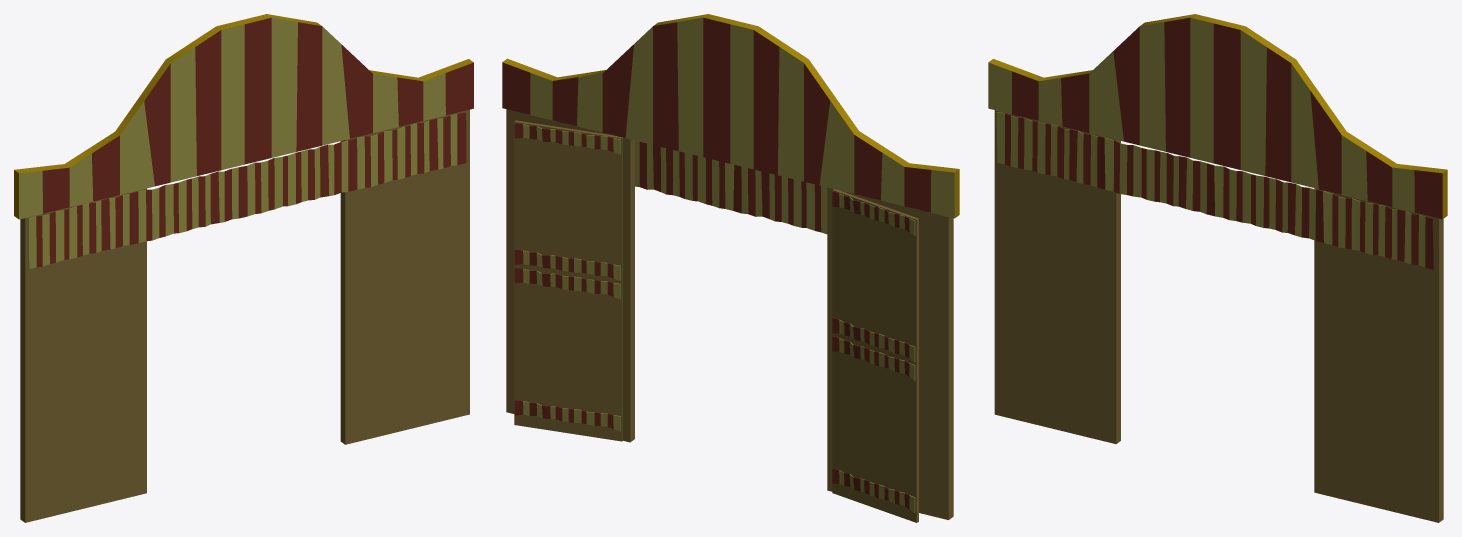
The model's file is EntranceGate_Proxy.fbx.
The picture shows the model from 3 angles, left to right: view 1: azimuth 30°, elevation 25°; view 2: azimuth 150°, elevation 25°; view 3: azimuth 330°, elevation 25°; orthographic projection.
Visible parts, largest first — view 1: Top, Wall_Left, Wall_Right, BannerWall_Right4; view 2: Top, Door_Left, Door_Right, Wall_Right, BannerWall_Right4, Wall_Left, Banner_Left2, Banner_Left3, Banner_Left4, Banner_Left1, Banner_Right2, Banner_Right4 (+2 smaller); view 3: Top, Wall_Left, Wall_Right, BannerWall_Right4.
Part boxes in pixels (box(x1,y1,x2,y2)): Top: box(14, 14, 473, 219); Wall_Left: box(340, 109, 469, 444); Wall_Right: box(20, 188, 146, 522); BannerWall_Right4: box(28, 112, 466, 268); Top: box(502, 14, 959, 218); Door_Left: box(514, 120, 622, 441); Door_Right: box(832, 189, 918, 522); Wall_Right: box(827, 187, 953, 519); BannerWall_Right4: box(635, 140, 827, 234); Wall_Left: box(506, 109, 634, 442); Banner_Left2: box(514, 249, 620, 281); Banner_Left3: box(514, 267, 620, 299); Banner_Left4: box(514, 400, 620, 431); Banner_Left1: box(514, 123, 620, 154); Banner_Right2: box(832, 317, 915, 362); Banner_Right4: box(832, 468, 915, 512); Top: box(988, 14, 1447, 219); Wall_Left: box(1314, 188, 1443, 522); Wall_Right: box(994, 110, 1120, 443); BannerWall_Right4: box(996, 112, 1433, 269).
Bounding box in the file's own units: 583 × 545 × 40.92.
